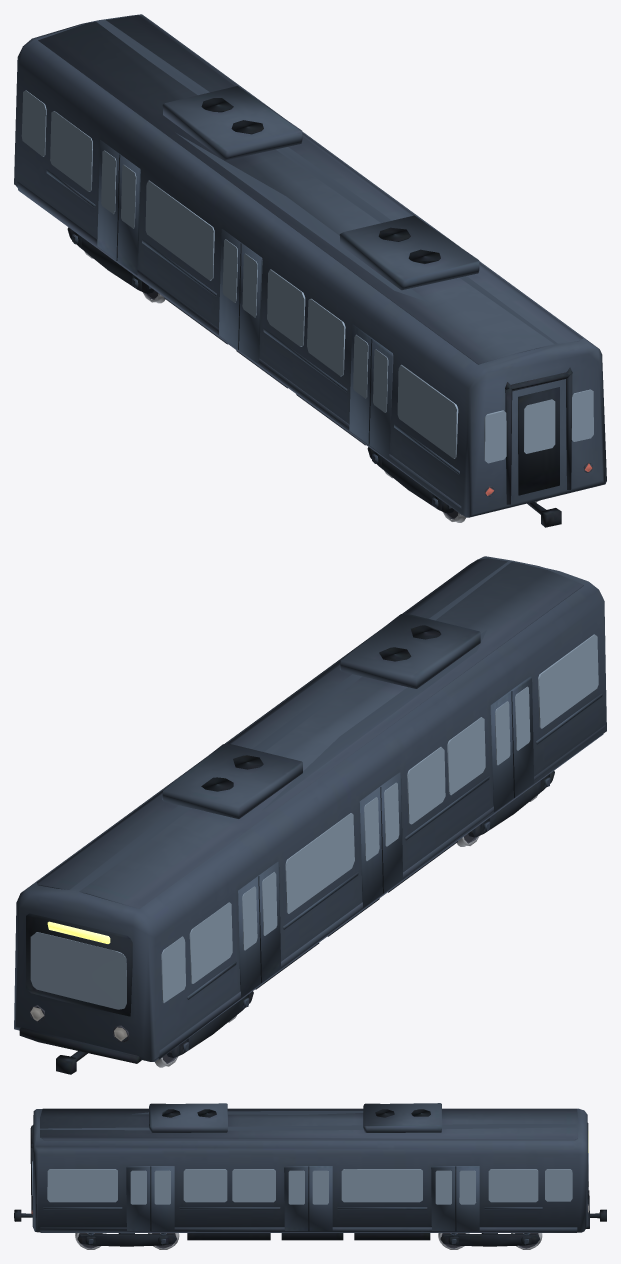
The model's file is train.glb.
The picture shows the model from 3 angles, top to bottom: view 1: azimuth 30°, elevation 25°; view 2: azimuth 150°, elevation 25°; view 3: azimuth 270°, elevation 25°; orthographic projection. The views are drawn at different scales.
Visible parts, largest first — view 1: subway-car_body, subway-car_windows; view 2: subway-car_body, subway-car_windows; view 3: subway-car_body, subway-car_windows.
Boxes of the visible parts, left/top/right/bottom form: subway-car_body: left=14, top=14, right=606, bottom=527; subway-car_windows: left=21, top=90, right=593, bottom=463; subway-car_body: left=14, top=556, right=606, bottom=1074; subway-car_windows: left=30, top=634, right=598, bottom=1009; subway-car_body: left=14, top=1103, right=606, bottom=1246; subway-car_windows: left=32, top=1153, right=588, bottom=1204.
Size of the model in its own units: 2.79 by 3.82 by 16.33.
Materials: 8 (1 with a texture image).
